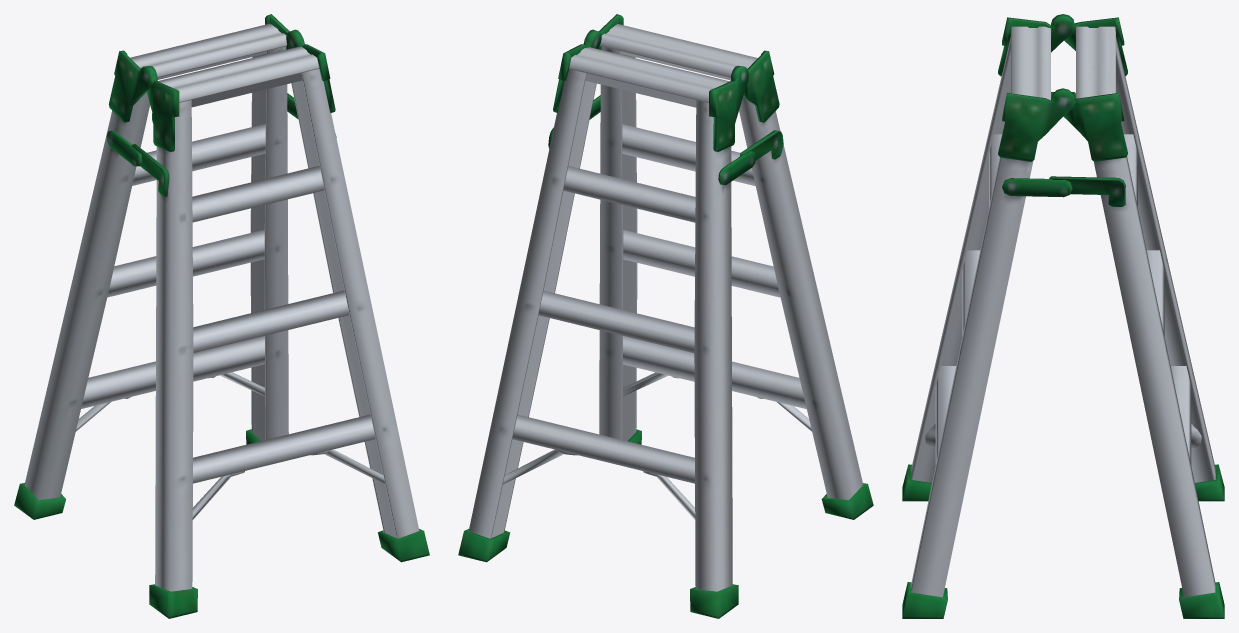
3 renders of one model, left to right at view 1: azimuth 30°, elevation 25°; view 2: azimuth 150°, elevation 25°; view 3: azimuth 270°, elevation 25°, orthographic. The views are drawn at different scales.
Bounding box in the file's own units: 8.87 × 15.65 × 9.13.
1 material, 1 textured.
